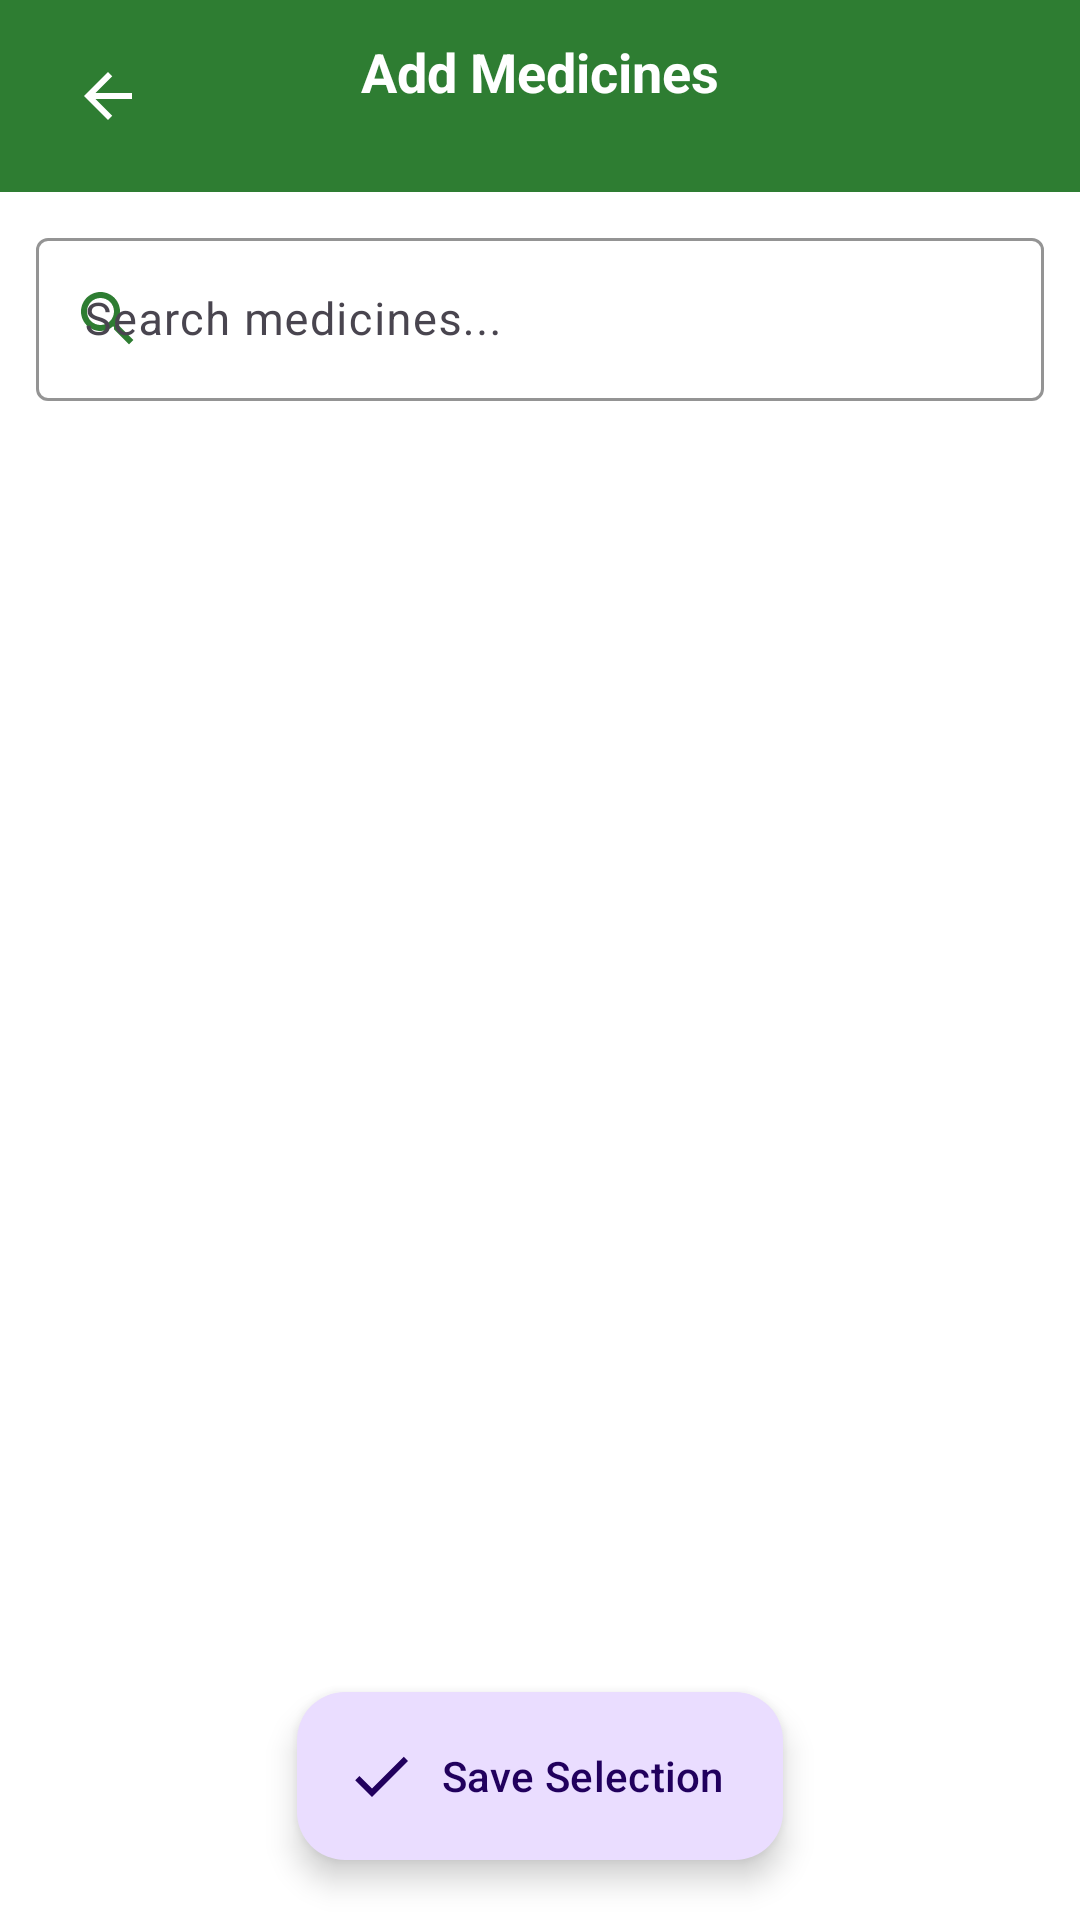

Screen size 1080×1920. Icon name, then its center in pixels as (x,y):
Back: (108,96)
